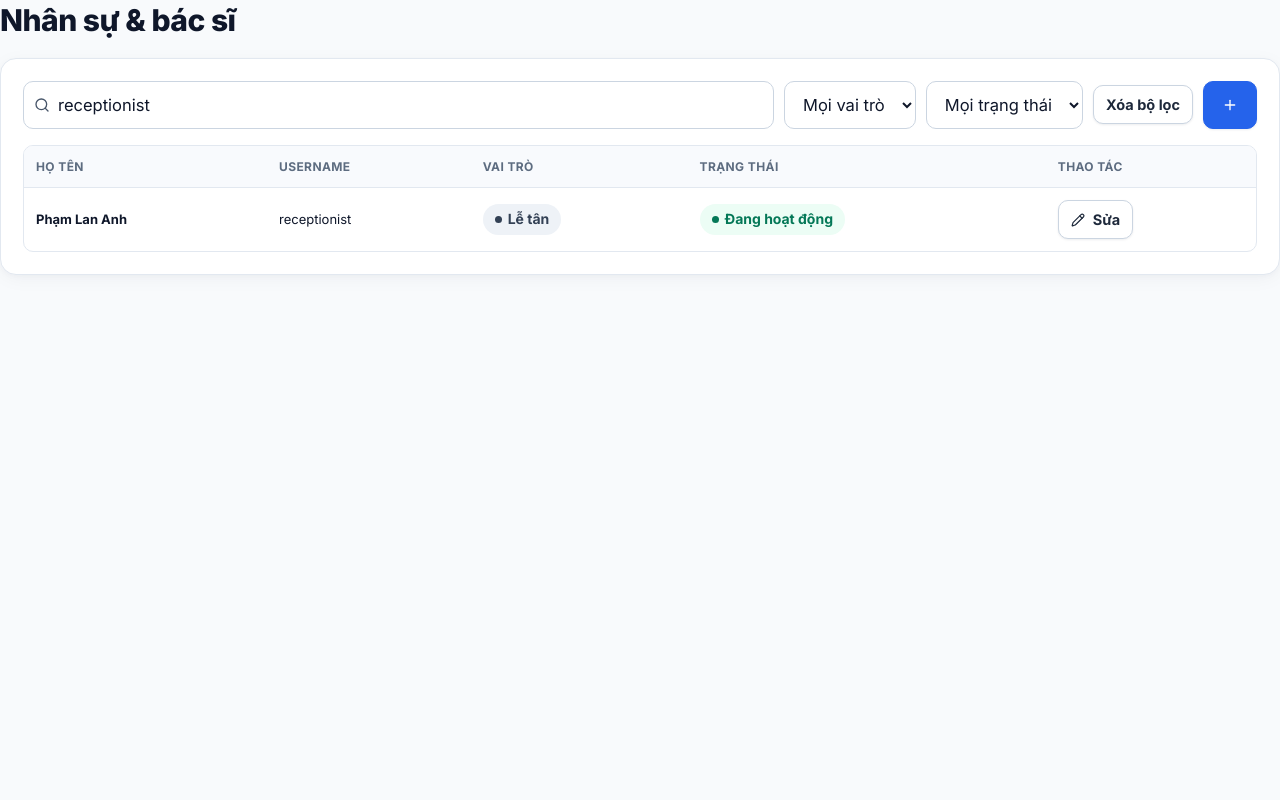
Test case: hiển thị nhân sự, cấp quyền và lọc tài khoản đã vô hiệu hóa
Earlier steps of the test are not shown.
Later steps or results of the test are not shown.
Click the button "Sửa".
click(1095, 220)  # box [1058,200,1133,239]
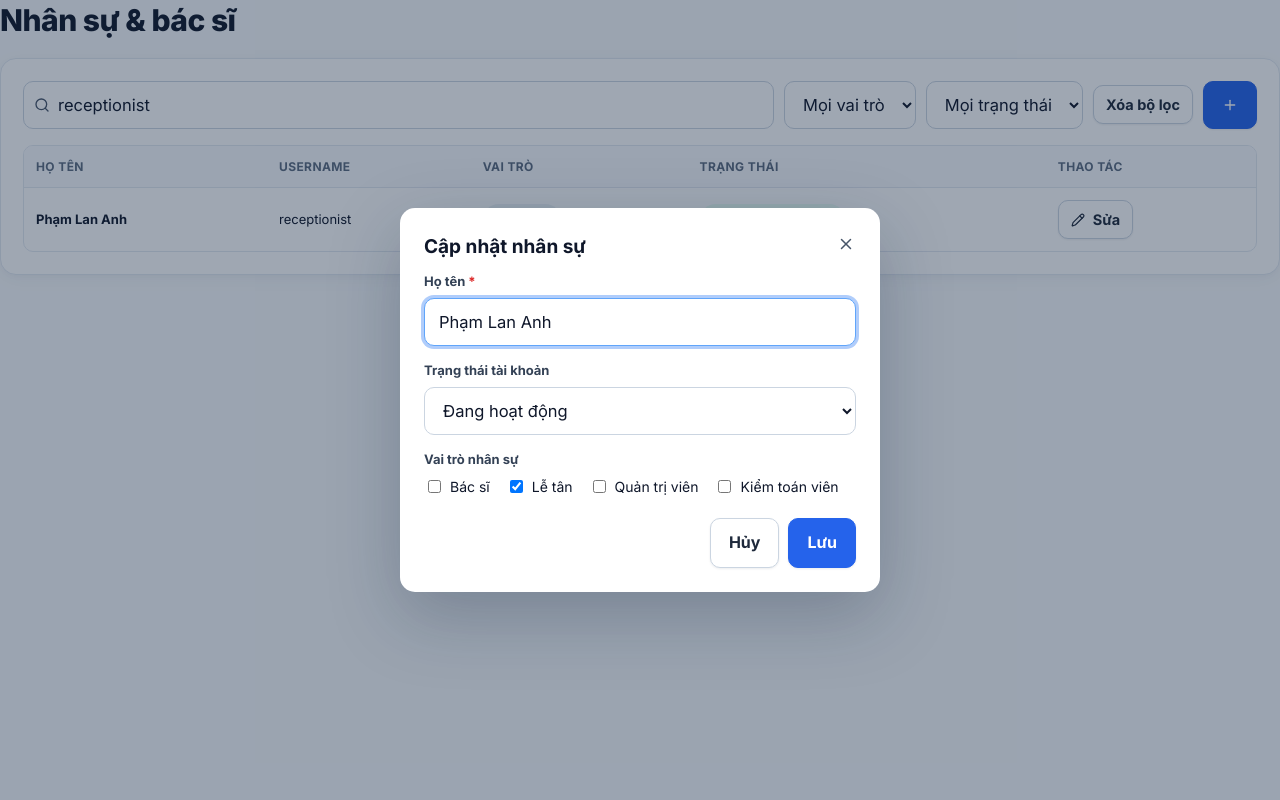
Expected: the checkbox labelled "Lễ tân" is checked, [510,480,523,493]
Expected: the checkbox labelled "Bác sĩ" is enabled, [428,480,441,493]
Click the checkbox labelled "Kiểm toán viên".
click(725, 487)  # box [718,480,732,493]
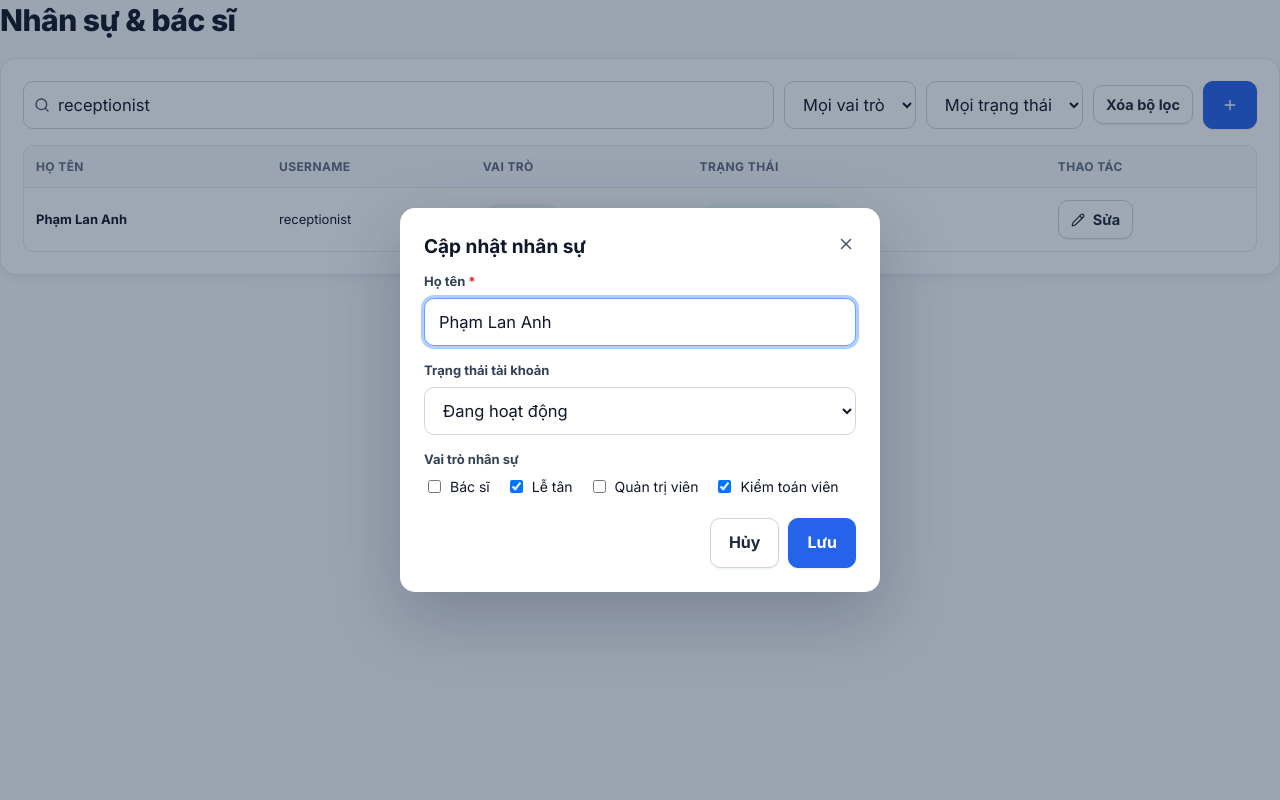
Submit the form, box [424,271,856,498]
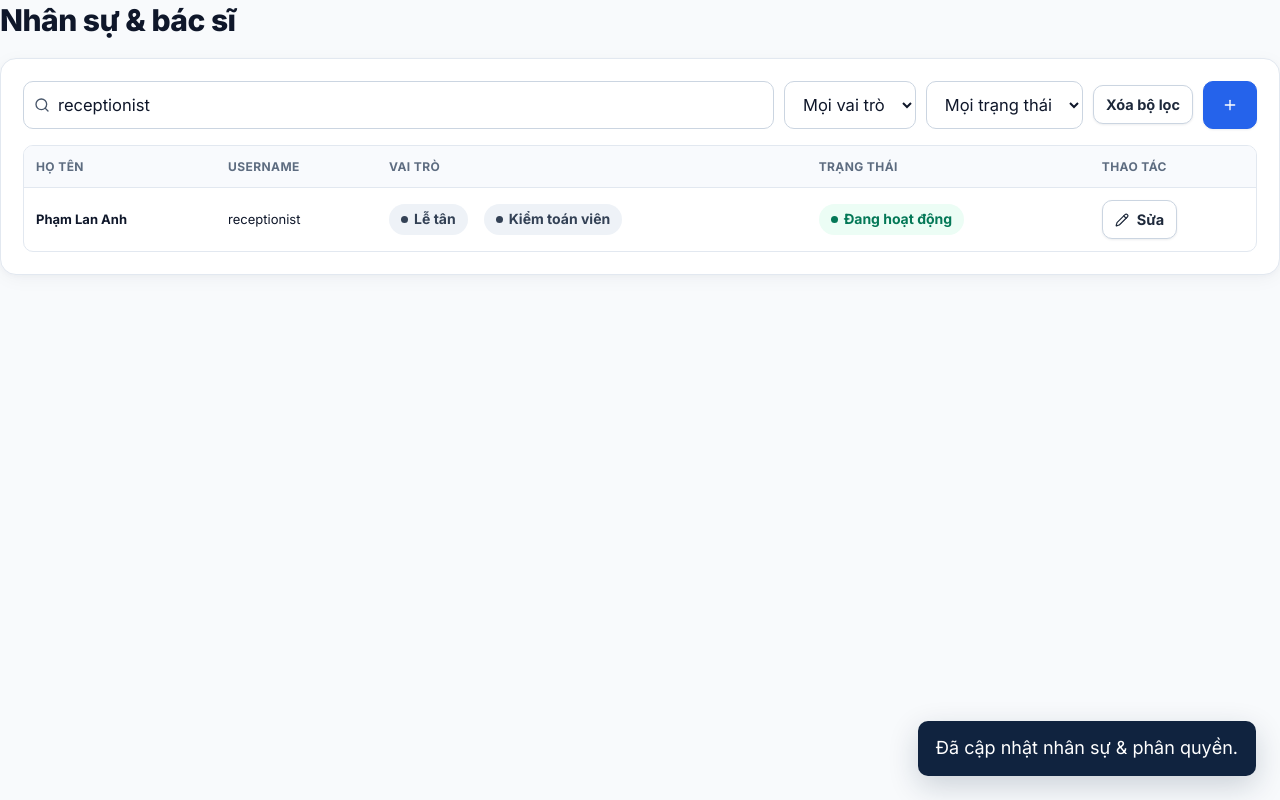
Expected: the text "Đã cập nhật nhân sự & phân quyền." is shown, [918,721,1256,776]
Click the button "Sửa".
click(1140, 220)  # box [1102,200,1177,239]
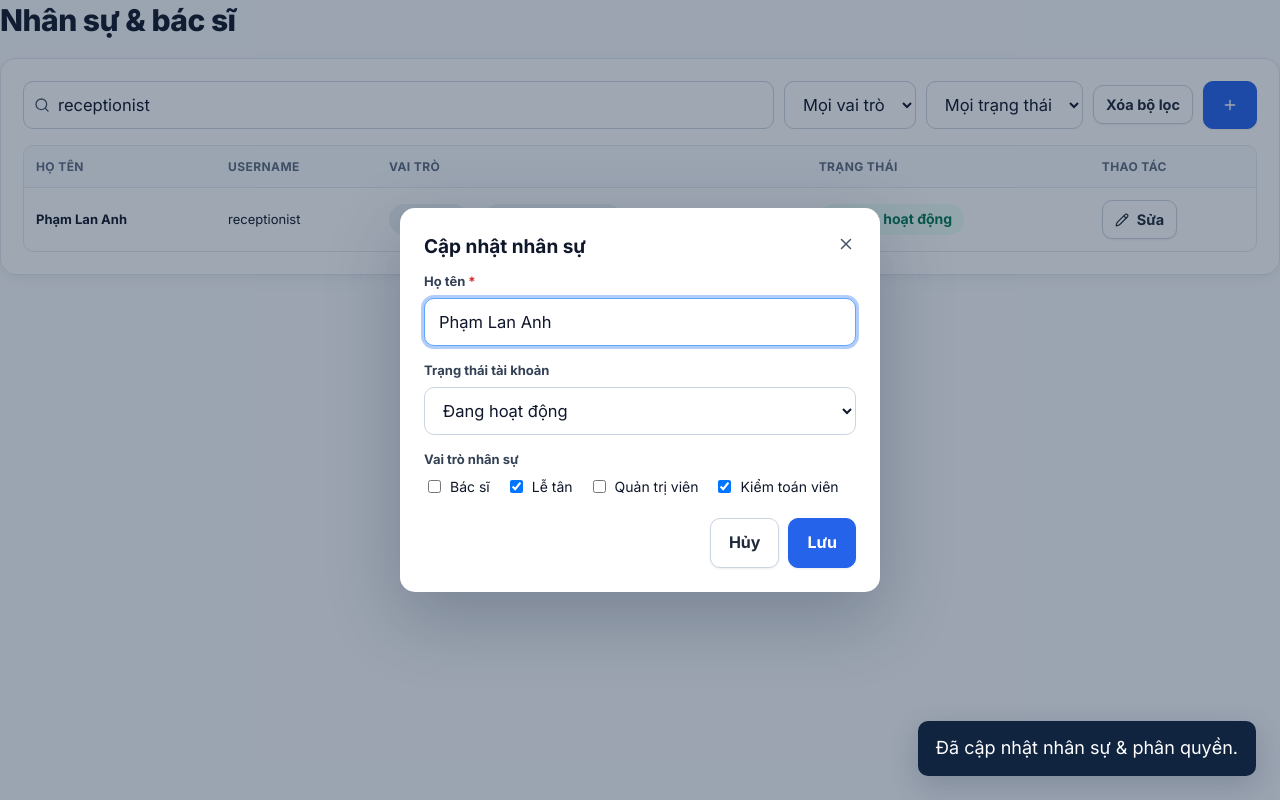
Select "Vô hiệu hóa" in the dropdown labelled "Trạng thái tài khoản" at (640, 411), box [424,387,856,435]
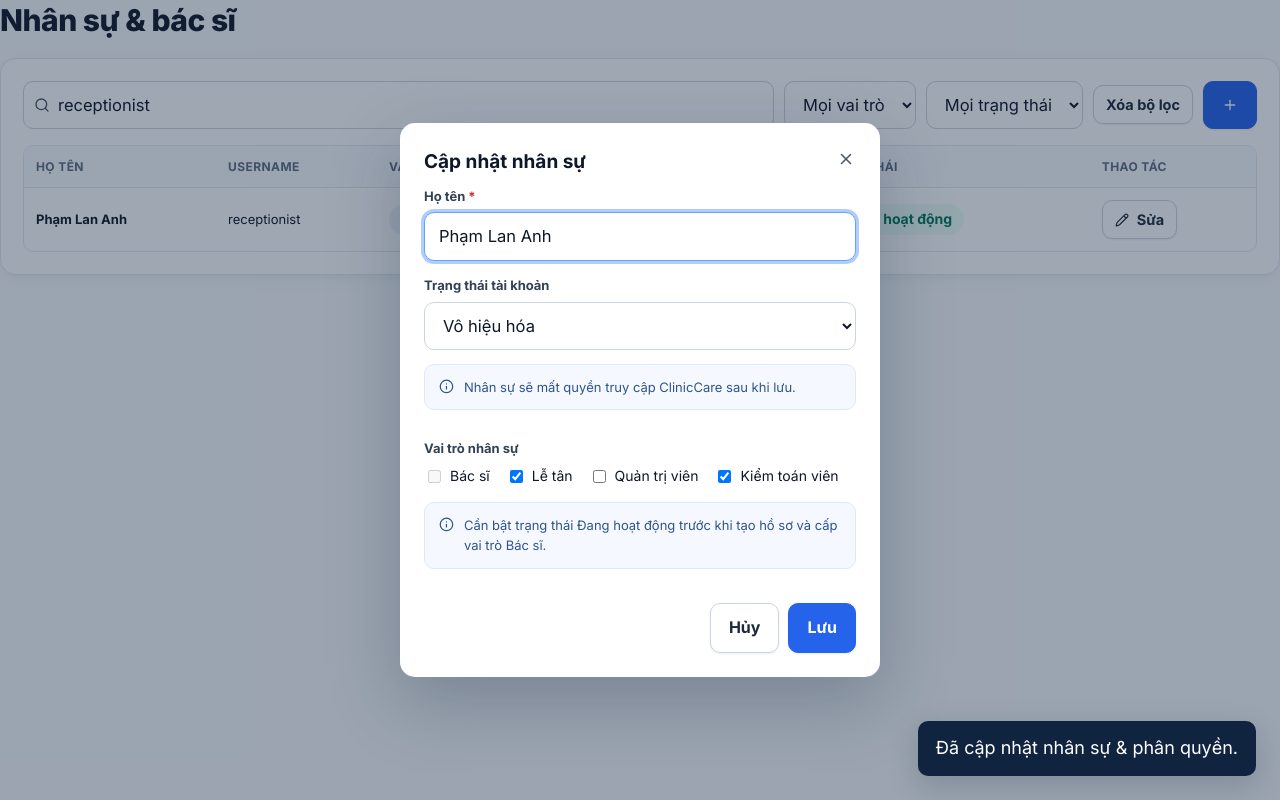
Submit the form, box [424,186,856,583]
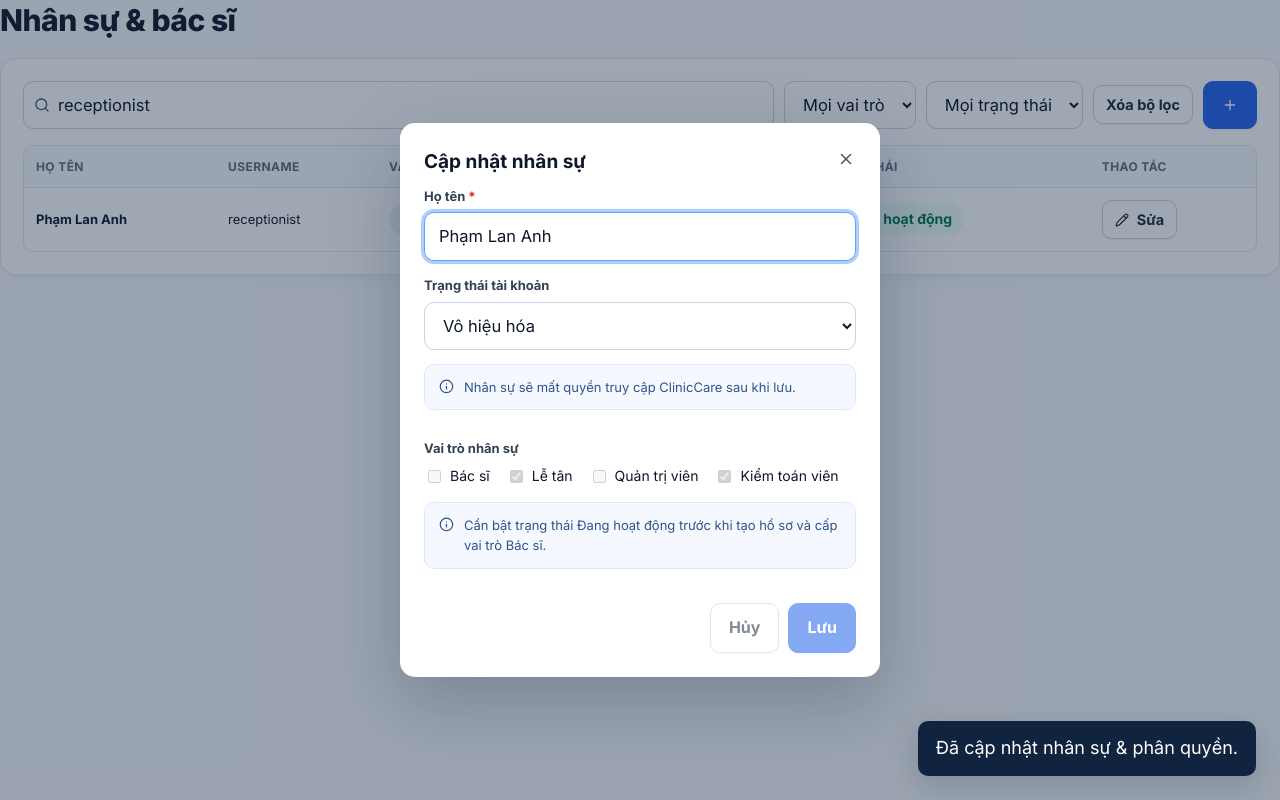
Expected: the text "Đã cập nhật nhân sự & phân quyền." is shown, [918,721,1256,776]
